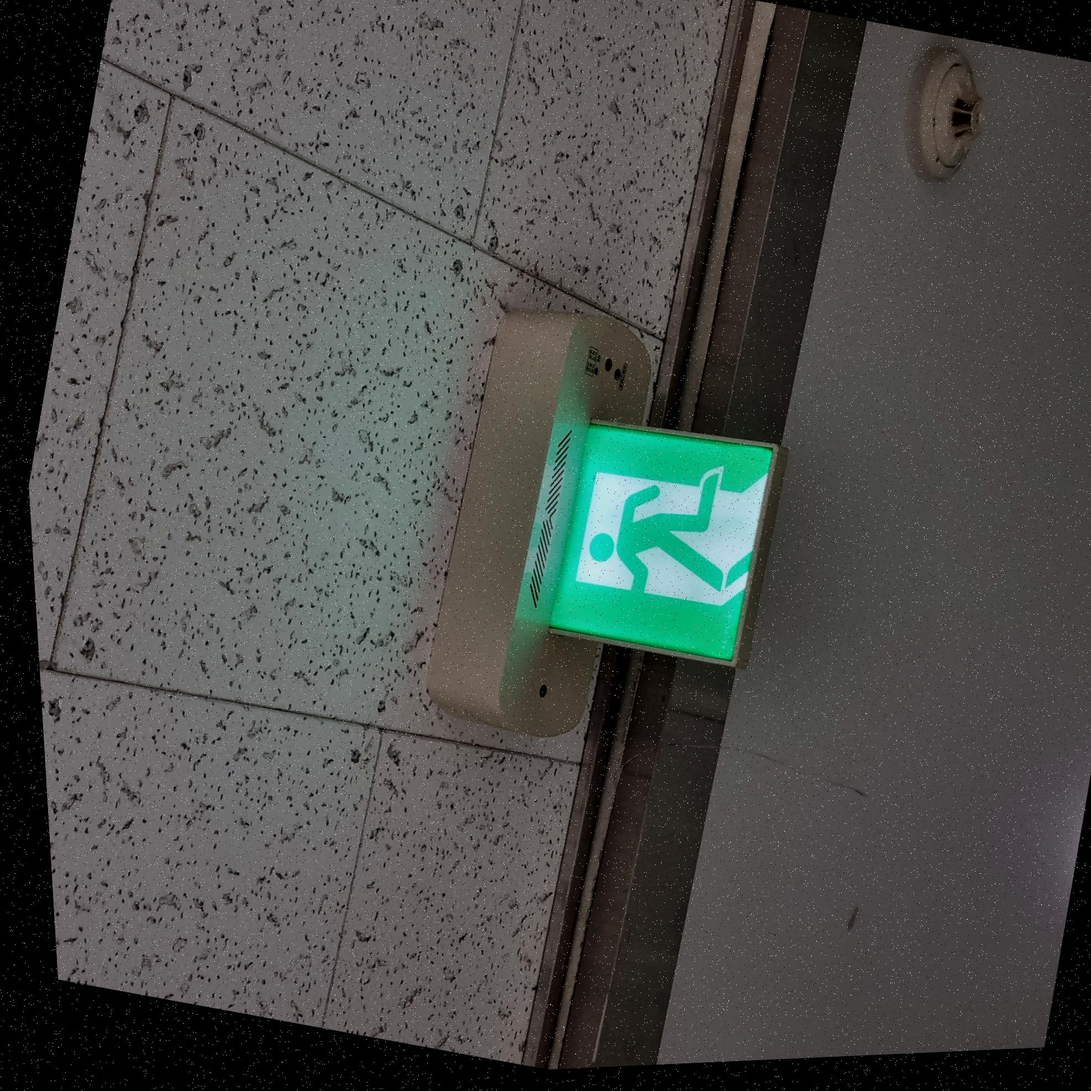emergency_exit: (425, 306, 786, 740), (543, 417, 785, 669)
